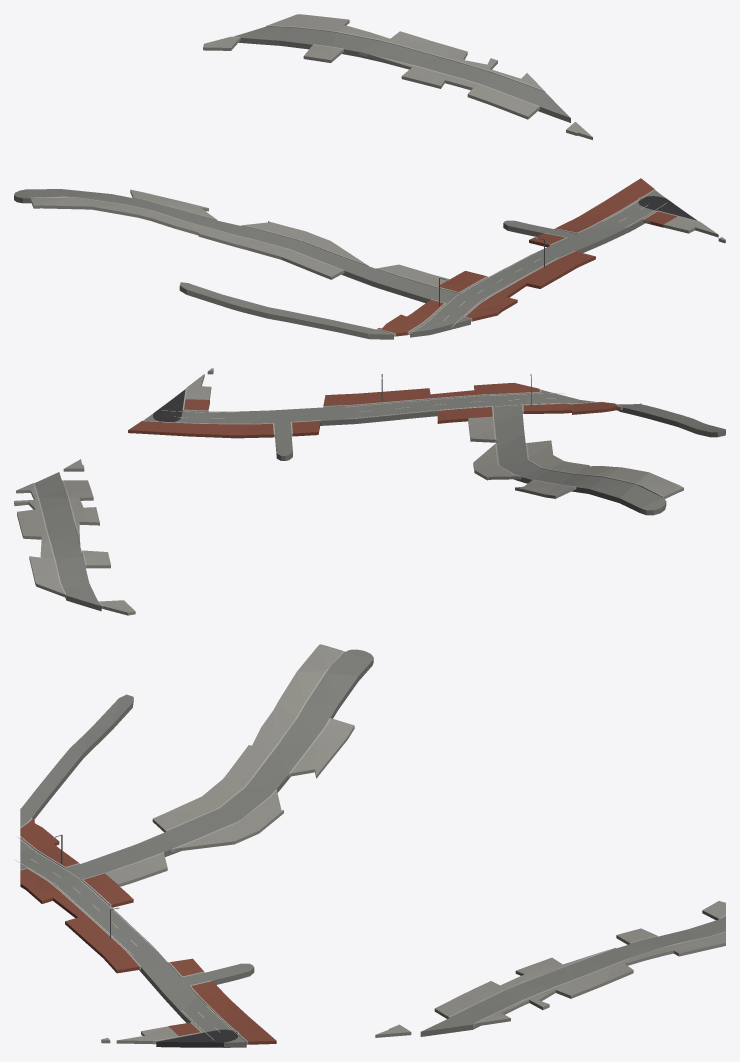
The picture shows the model from 3 angles, top to bottom: view 1: azimuth 30°, elevation 25°; view 2: azimuth 150°, elevation 25°; view 3: azimuth 270°, elevation 25°; orthographic projection. The views are drawn at different scales.
Size of the model in its own units: 144 by 25.08 by 147.
